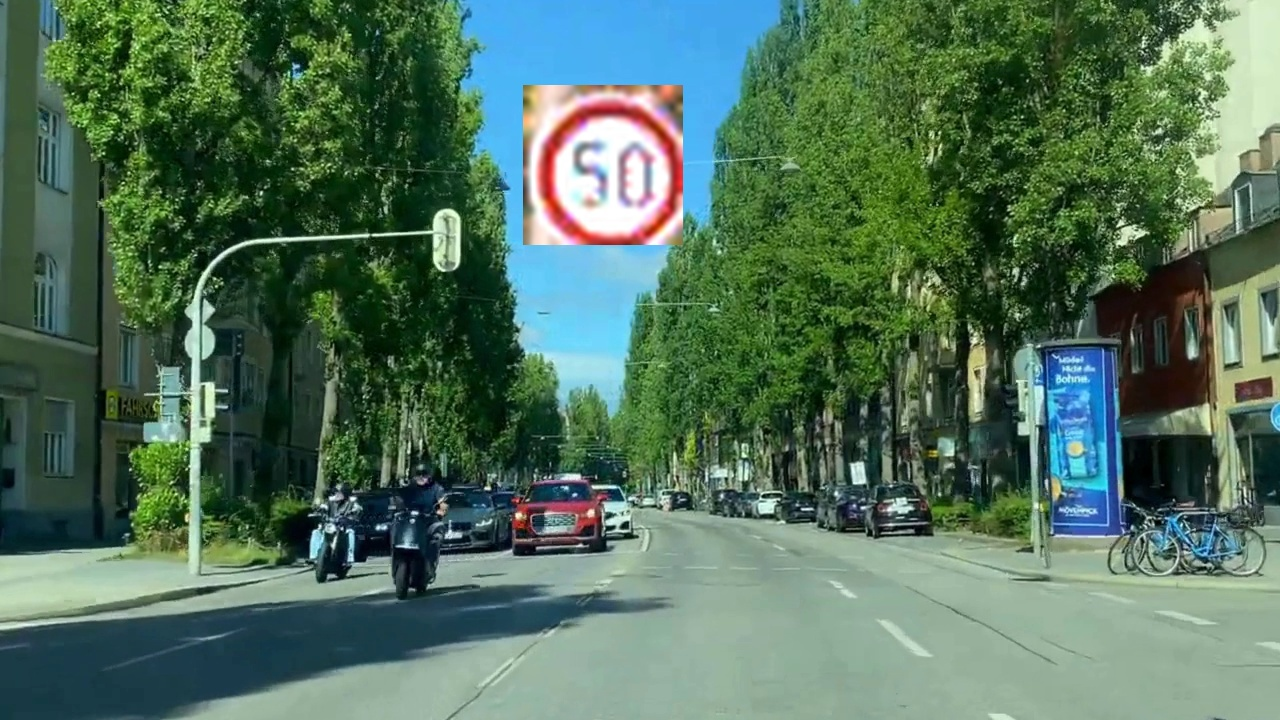Speed 50: (523, 85, 683, 245)
